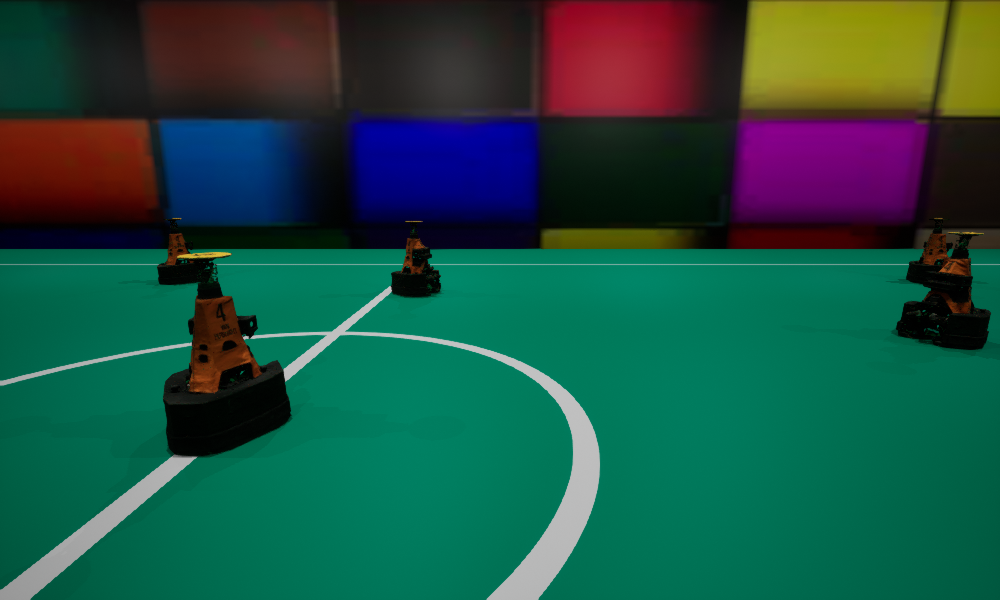0 orange robot TechUnited: (163, 252, 290, 455), (896, 232, 990, 348), (391, 221, 440, 296), (157, 218, 204, 284), (906, 218, 952, 283)
